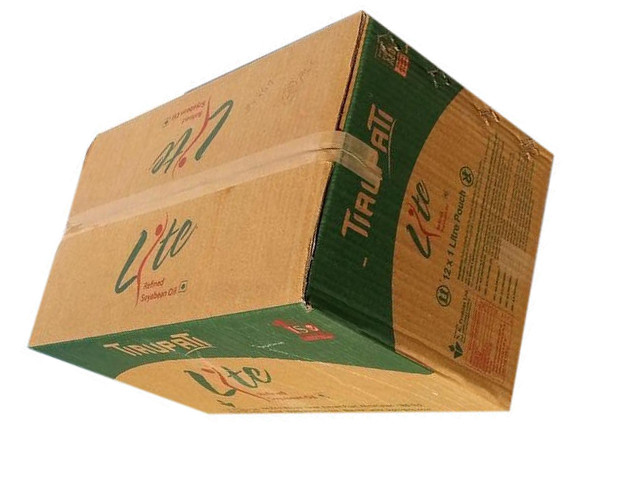cardboard: (41, 25, 539, 413)
